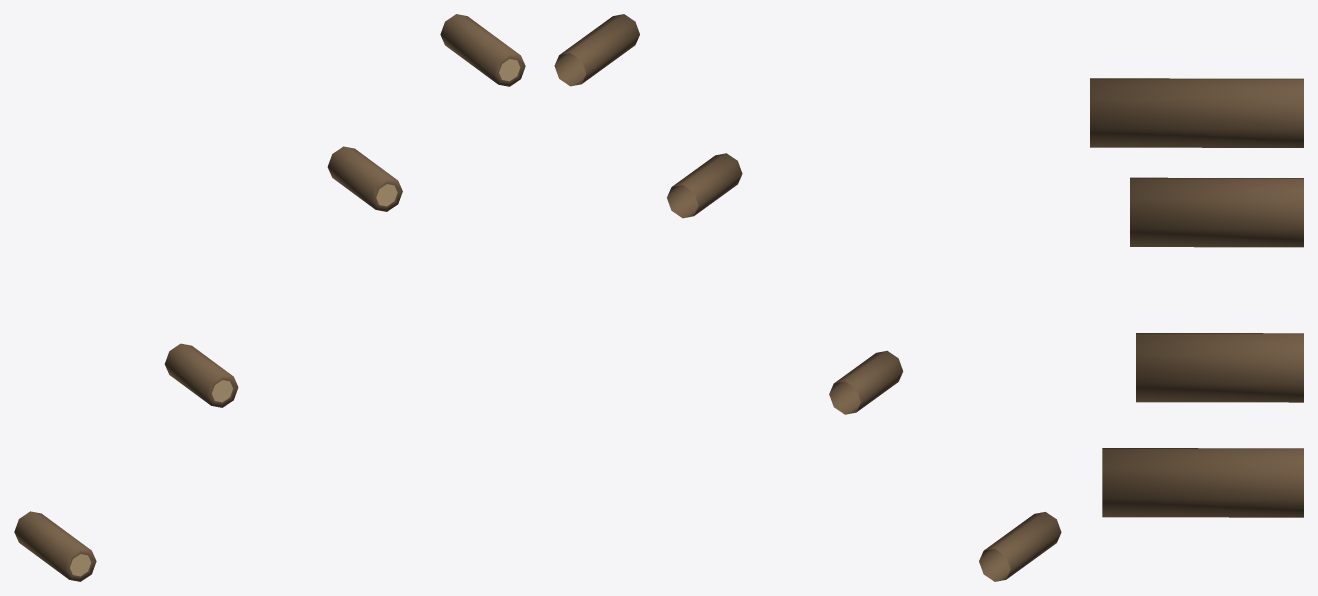
The model's file is rpgpp_ag_roof_support_01_9x4x3_end_01_half_a.fbx.
3 renders of one model, left to right at view 1: azimuth 30°, elevation 25°; view 2: azimuth 150°, elevation 25°; view 3: azimuth 270°, elevation 25°, orthographic. The views are drawn at different scales.
Visible parts, largest first — view 1: rpgpp_ag_roof_support_01_9x4x3_end_01_half_a; view 2: rpgpp_ag_roof_support_01_9x4x3_end_01_half_a; view 3: rpgpp_ag_roof_support_01_9x4x3_end_01_half_a.
Boxes of the visible parts, box(x1,y1,x2,y2) form: rpgpp_ag_roof_support_01_9x4x3_end_01_half_a: box(14, 14, 525, 581); rpgpp_ag_roof_support_01_9x4x3_end_01_half_a: box(554, 14, 1061, 581); rpgpp_ag_roof_support_01_9x4x3_end_01_half_a: box(1090, 78, 1303, 517).
Size of the model in its own units: 3.66 by 3.26 by 0.7417.
